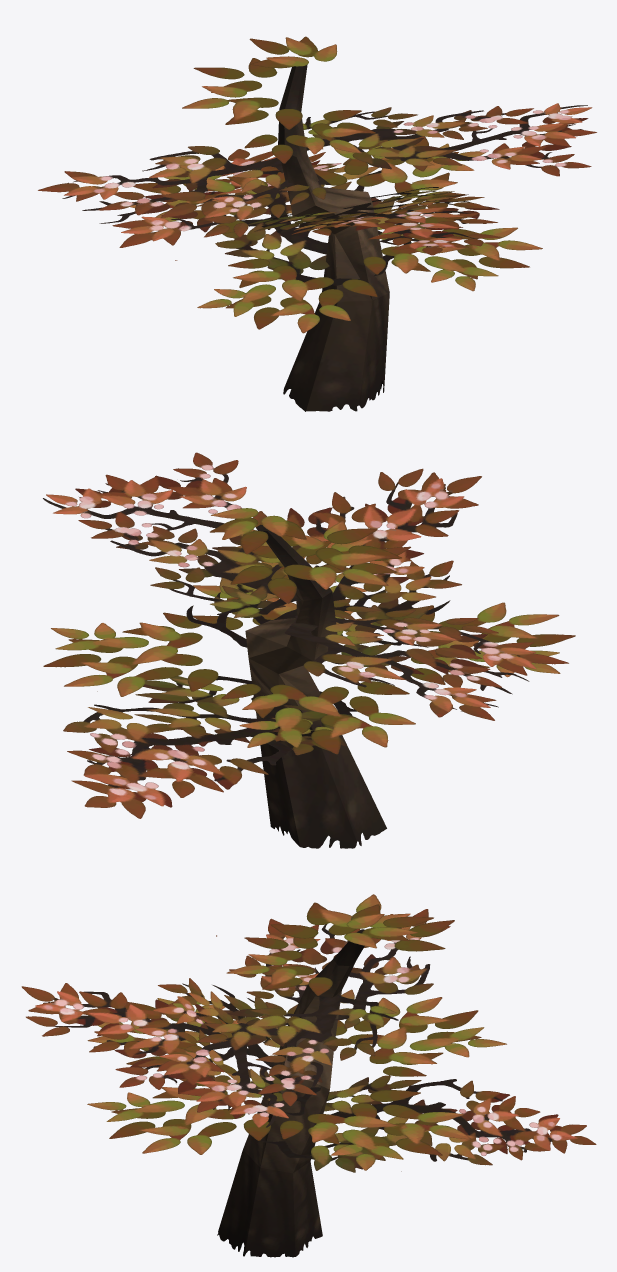
The model's file is cherrytree_bush_01.fbx.
3 views of the same model, one above another, from view 1: azimuth 30°, elevation 25°; view 2: azimuth 150°, elevation 25°; view 3: azimuth 270°, elevation 25° (orthographic). The views are drawn at different scales.
Visible parts, largest first — view 1: obj1.002; view 2: obj1.002; view 3: obj1.002.
Boxes of the visible parts, box(x1,y1,x2,y2) form: obj1.002: box(38, 36, 596, 411); obj1.002: box(43, 452, 575, 848); obj1.002: box(21, 894, 596, 1257).
Bounding box in the file's own units: 3.34 × 1.91 × 3.21.
